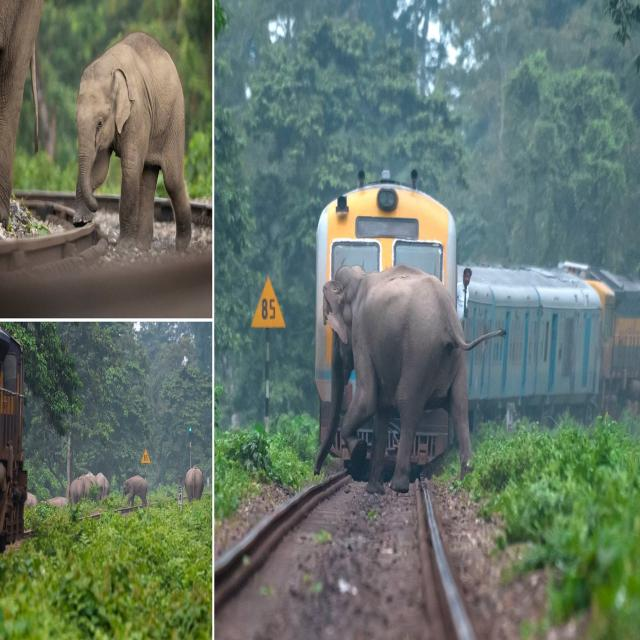Elephant: (314, 261, 490, 492), (73, 32, 193, 260)
